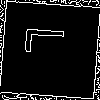L: (25, 24, 74, 57)
